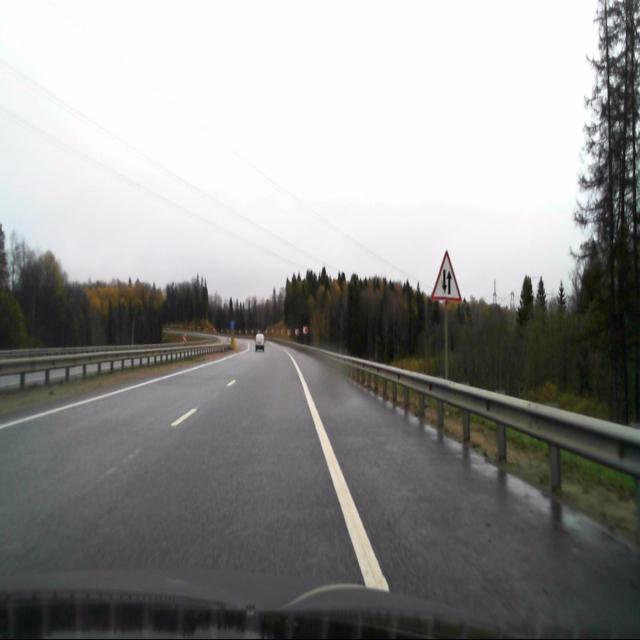object: (443, 303, 449, 380)
road sign: (430, 250, 462, 300)
